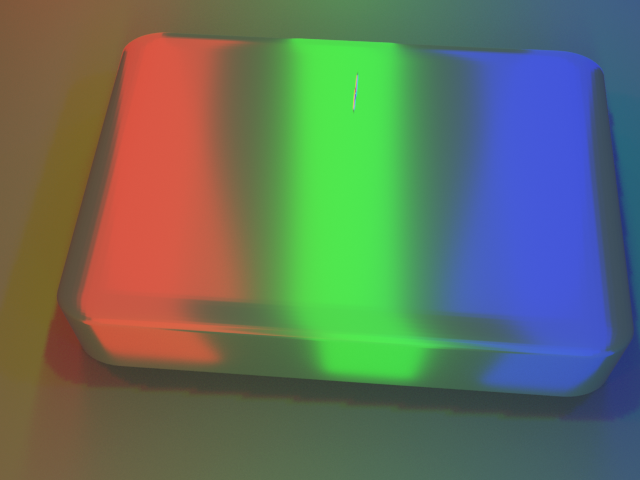scratch: (238, 16, 483, 139)
